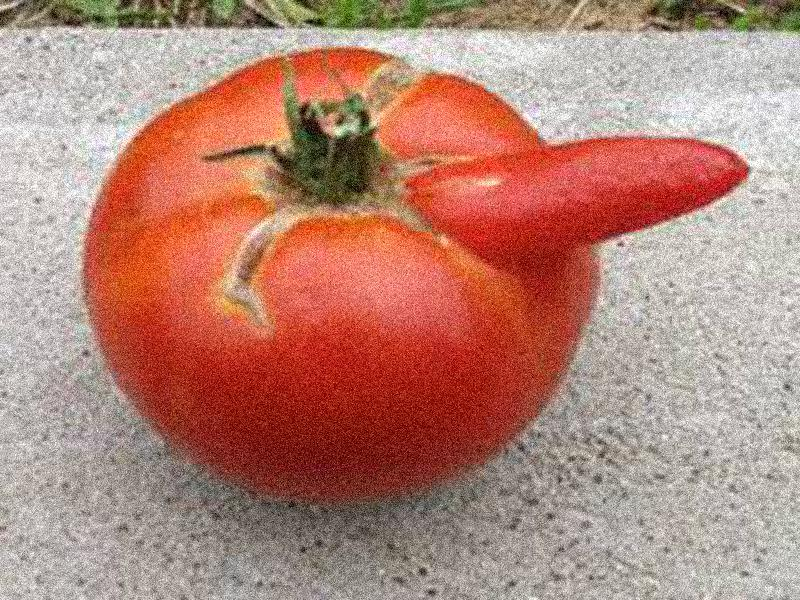Tomato: (78, 46, 599, 487)
